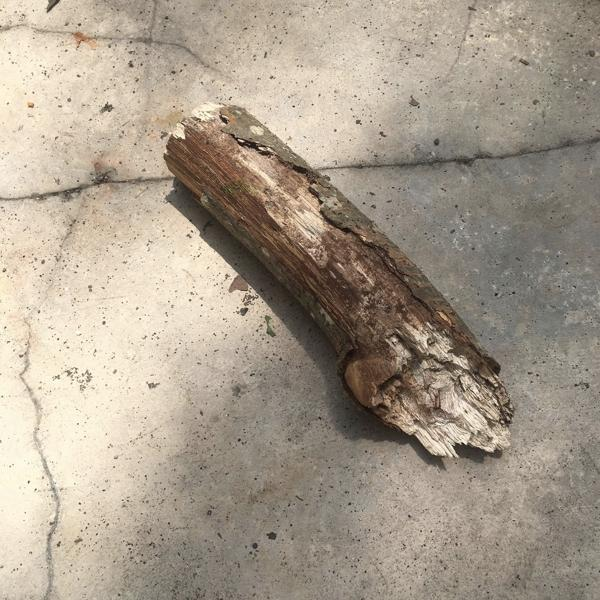Organik: (147, 89, 526, 471)
